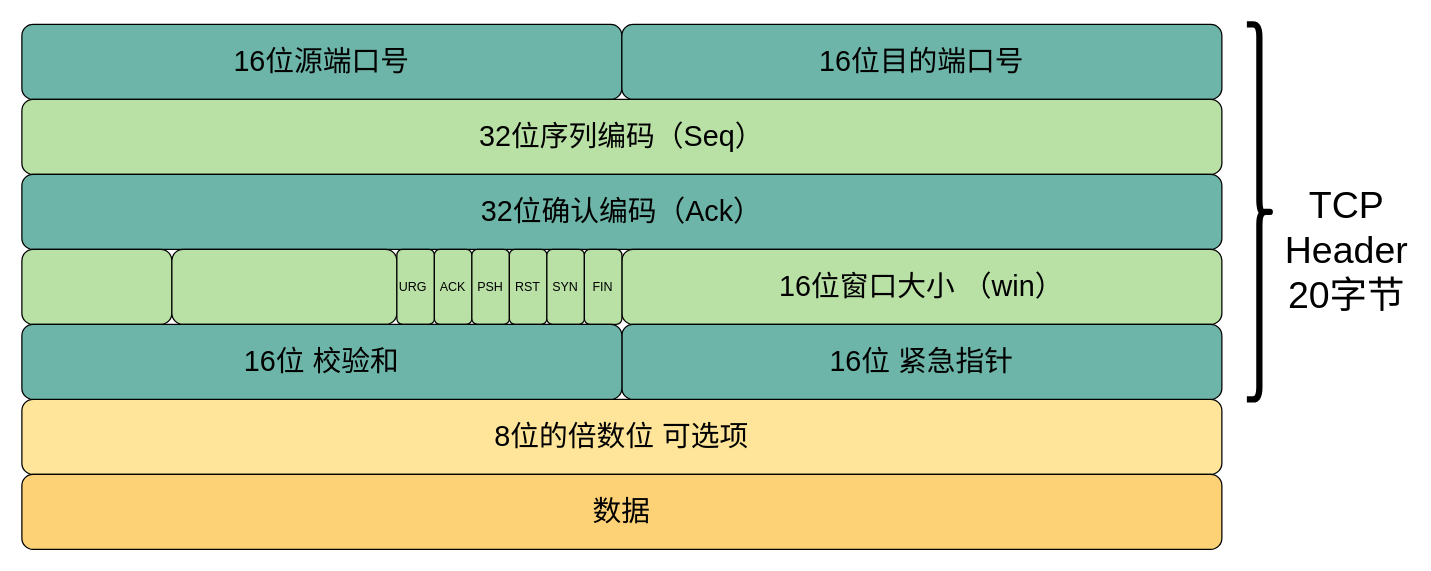
Some shapes in this 1431 by 571 pixel diagram are drawn without their labels. Here are the shapes that lost their labels. From the top down, the box of each, then its label:
(21, 248, 172, 324): 4位头部长度
(171, 248, 397, 324): 6位 保留
